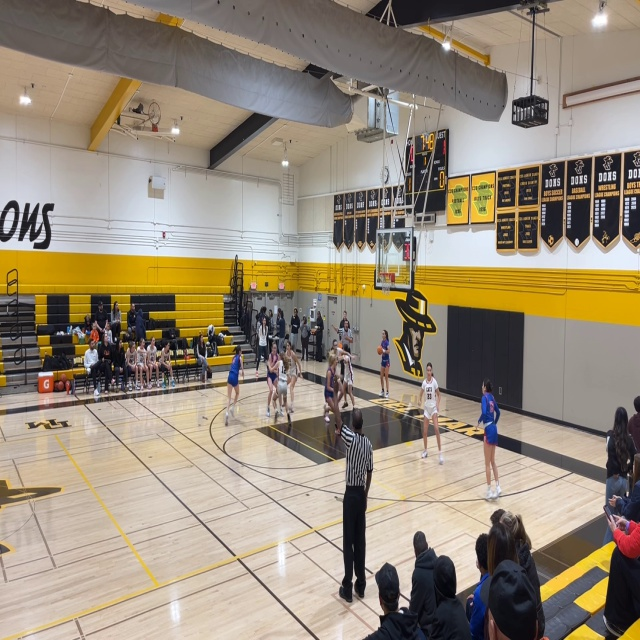Basketball: (377, 347, 383, 355)
